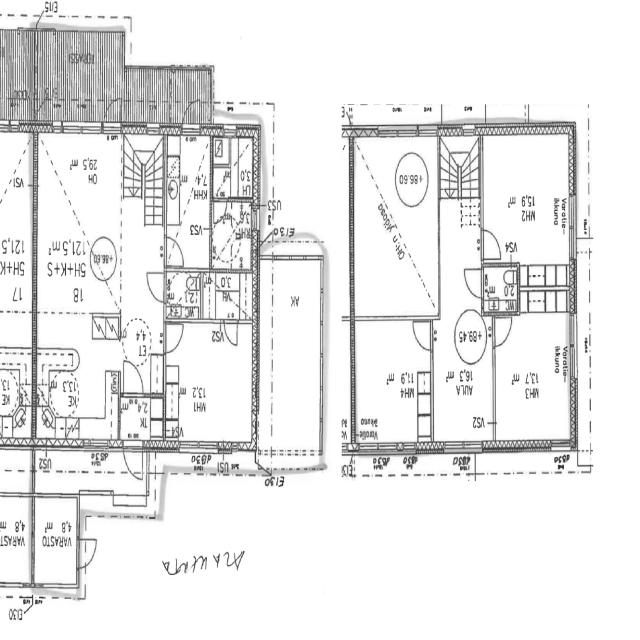door: (120, 357, 146, 398), (410, 316, 434, 354), (162, 318, 185, 357), (480, 225, 503, 263), (122, 443, 144, 482), (145, 270, 167, 306), (463, 264, 484, 301), (164, 234, 186, 268), (494, 313, 514, 349), (78, 536, 99, 568), (180, 102, 199, 136), (222, 318, 240, 348), (102, 99, 120, 129), (211, 197, 229, 225), (102, 116, 121, 134), (50, 112, 64, 134)
window: (374, 122, 423, 143), (566, 192, 579, 264), (60, 121, 104, 138), (374, 442, 411, 462), (39, 582, 75, 602), (567, 310, 580, 364), (489, 355, 498, 426), (274, 249, 314, 264), (442, 439, 479, 455), (355, 442, 389, 459), (0, 580, 26, 595), (84, 440, 111, 454), (549, 437, 571, 453), (0, 118, 19, 135), (220, 124, 238, 140), (145, 121, 161, 134)
zone: (34, 128, 124, 326), (350, 133, 439, 318), (262, 258, 325, 464), (480, 132, 572, 270), (164, 319, 256, 448), (493, 305, 573, 448), (352, 317, 434, 452), (1, 132, 34, 354), (165, 136, 211, 271), (32, 494, 79, 592), (210, 198, 254, 270), (0, 487, 32, 585), (211, 135, 255, 200), (118, 394, 164, 447), (202, 270, 248, 321), (164, 269, 204, 320), (481, 263, 519, 314), (0, 366, 22, 426)
